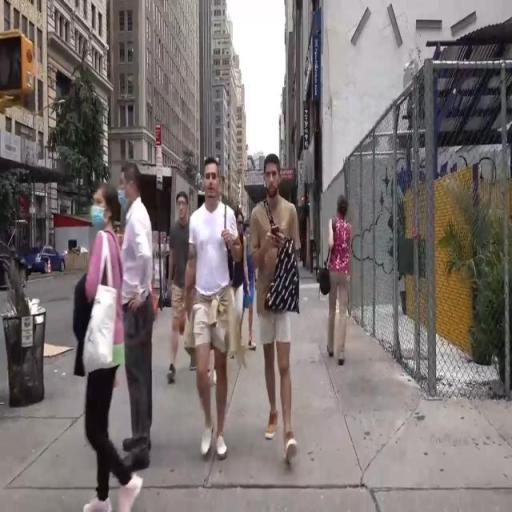person: (75, 178, 142, 512), (246, 154, 312, 467), (119, 159, 163, 473), (190, 150, 234, 459), (323, 196, 357, 395), (164, 185, 195, 370), (234, 200, 247, 351), (247, 220, 256, 367)
